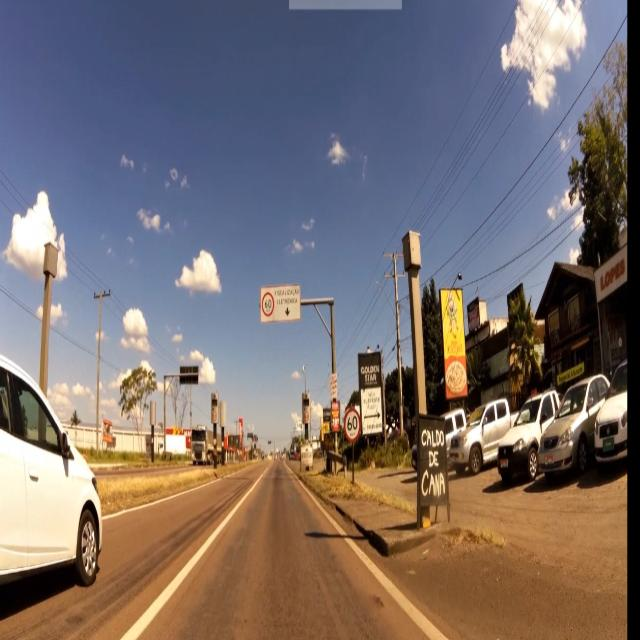R-19: (345, 407, 359, 440)
